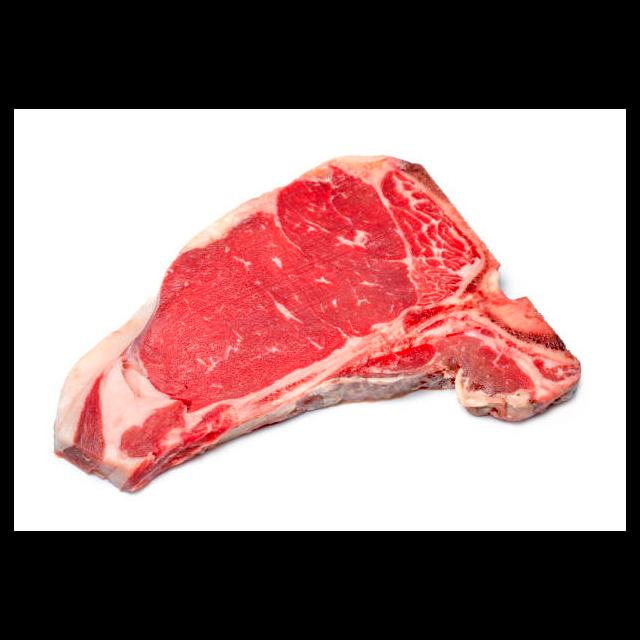beef: (53, 153, 583, 495)
